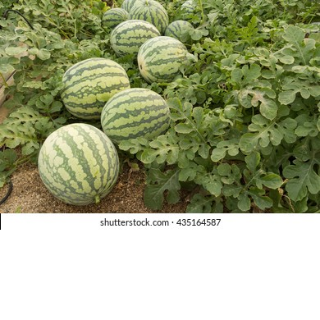dua_hau: (36, 122, 125, 207), (57, 56, 135, 123), (97, 86, 170, 153), (134, 36, 189, 82), (107, 19, 162, 56)
